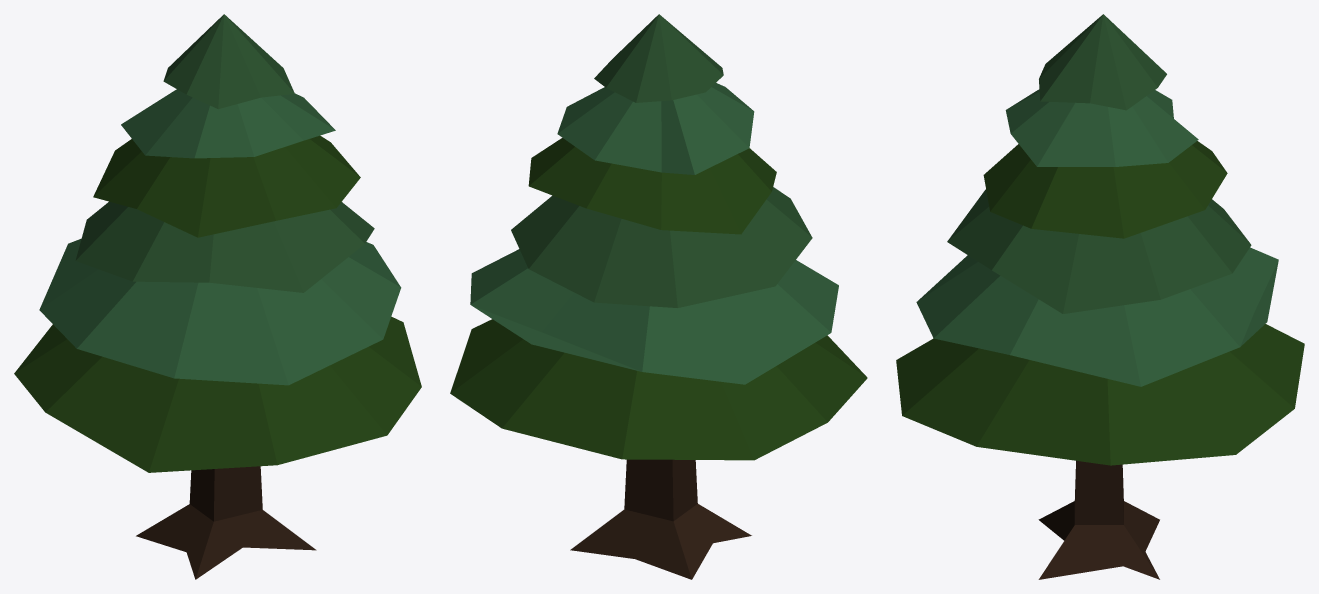
Rendered from tree3_smallpine.fbx.
The picture shows the model from 3 angles, left to right: view 1: azimuth 30°, elevation 25°; view 2: azimuth 150°, elevation 25°; view 3: azimuth 270°, elevation 25°; orthographic projection.
Visible parts, largest first — view 1: Cube.013; view 2: Cube.013; view 3: Cube.013.
Part boxes in pixels (box(x1,y1,x2,y2)): Cube.013: box(14, 14, 421, 579); Cube.013: box(450, 14, 867, 579); Cube.013: box(896, 14, 1304, 579).
Bounding box in the file's own units: 7.81 × 11.05 × 7.64.
